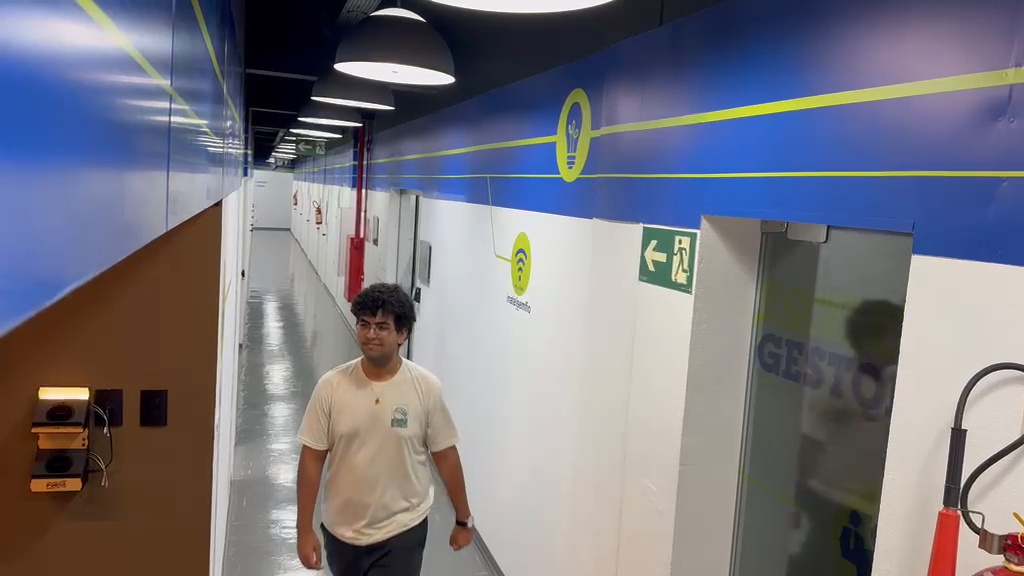person: (294, 281, 477, 574)
